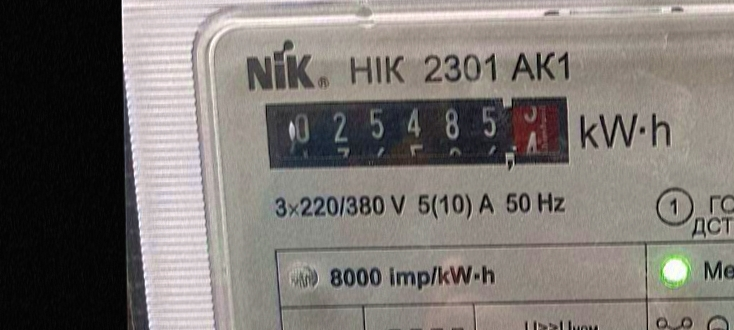0: (289, 110, 311, 146)
2: (328, 110, 349, 145)
4: (401, 105, 423, 140), (520, 129, 540, 158)
5: (476, 104, 498, 141), (364, 106, 385, 141)
8: (440, 105, 461, 143)
screen: (254, 90, 576, 181)
